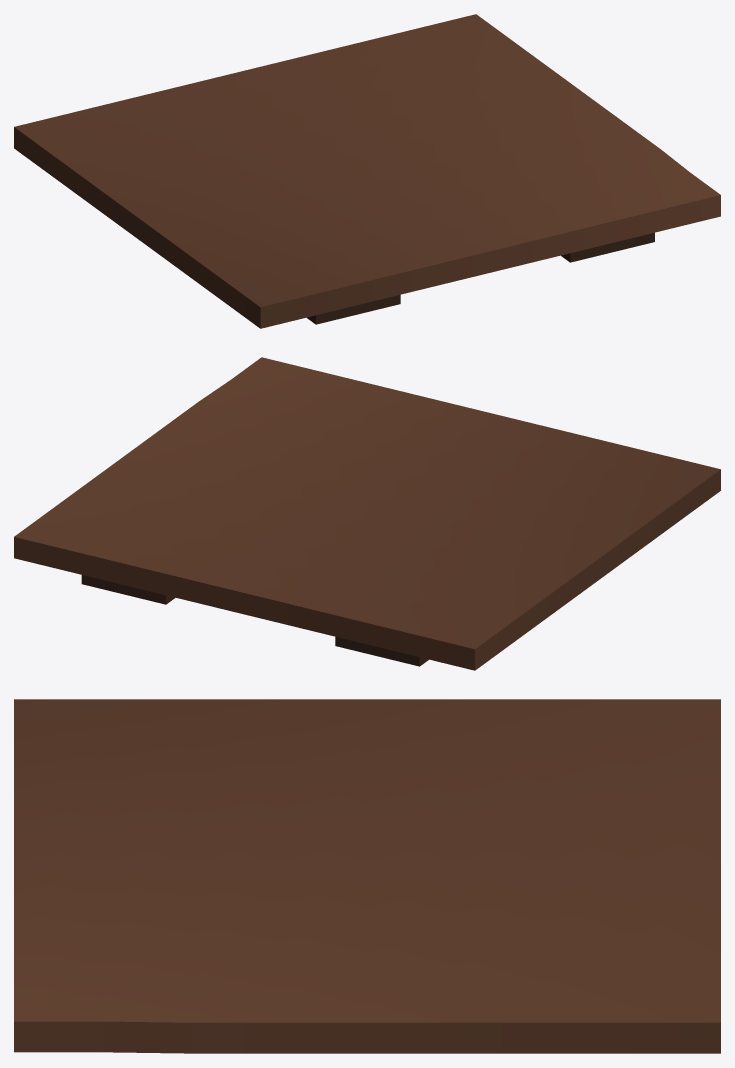
Rendered from Tall Single Cherry Crate Lid.fbx.
3 views of the same model, one above another, from view 1: azimuth 30°, elevation 25°; view 2: azimuth 150°, elevation 25°; view 3: azimuth 270°, elevation 25° (orthographic). The views are drawn at different scales.
Parts seen in each view (by area): view 1: Tall Cherry Single Crate Lid; view 2: Tall Cherry Single Crate Lid; view 3: Tall Cherry Single Crate Lid.
Part boxes in pixels (<box>): Tall Cherry Single Crate Lid: <box>14,14,720,328</box>; Tall Cherry Single Crate Lid: <box>14,357,720,670</box>; Tall Cherry Single Crate Lid: <box>14,699,720,1053</box>.
Bounding box in the file's own units: 17.23 × 208 × 226.
Materials: 1 (1 with a texture image).
